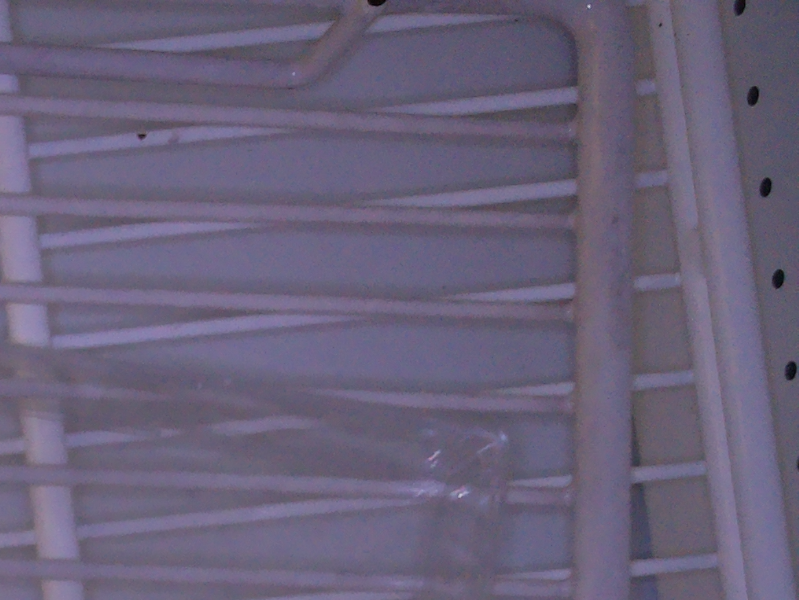plate: (1, 344, 513, 600)
